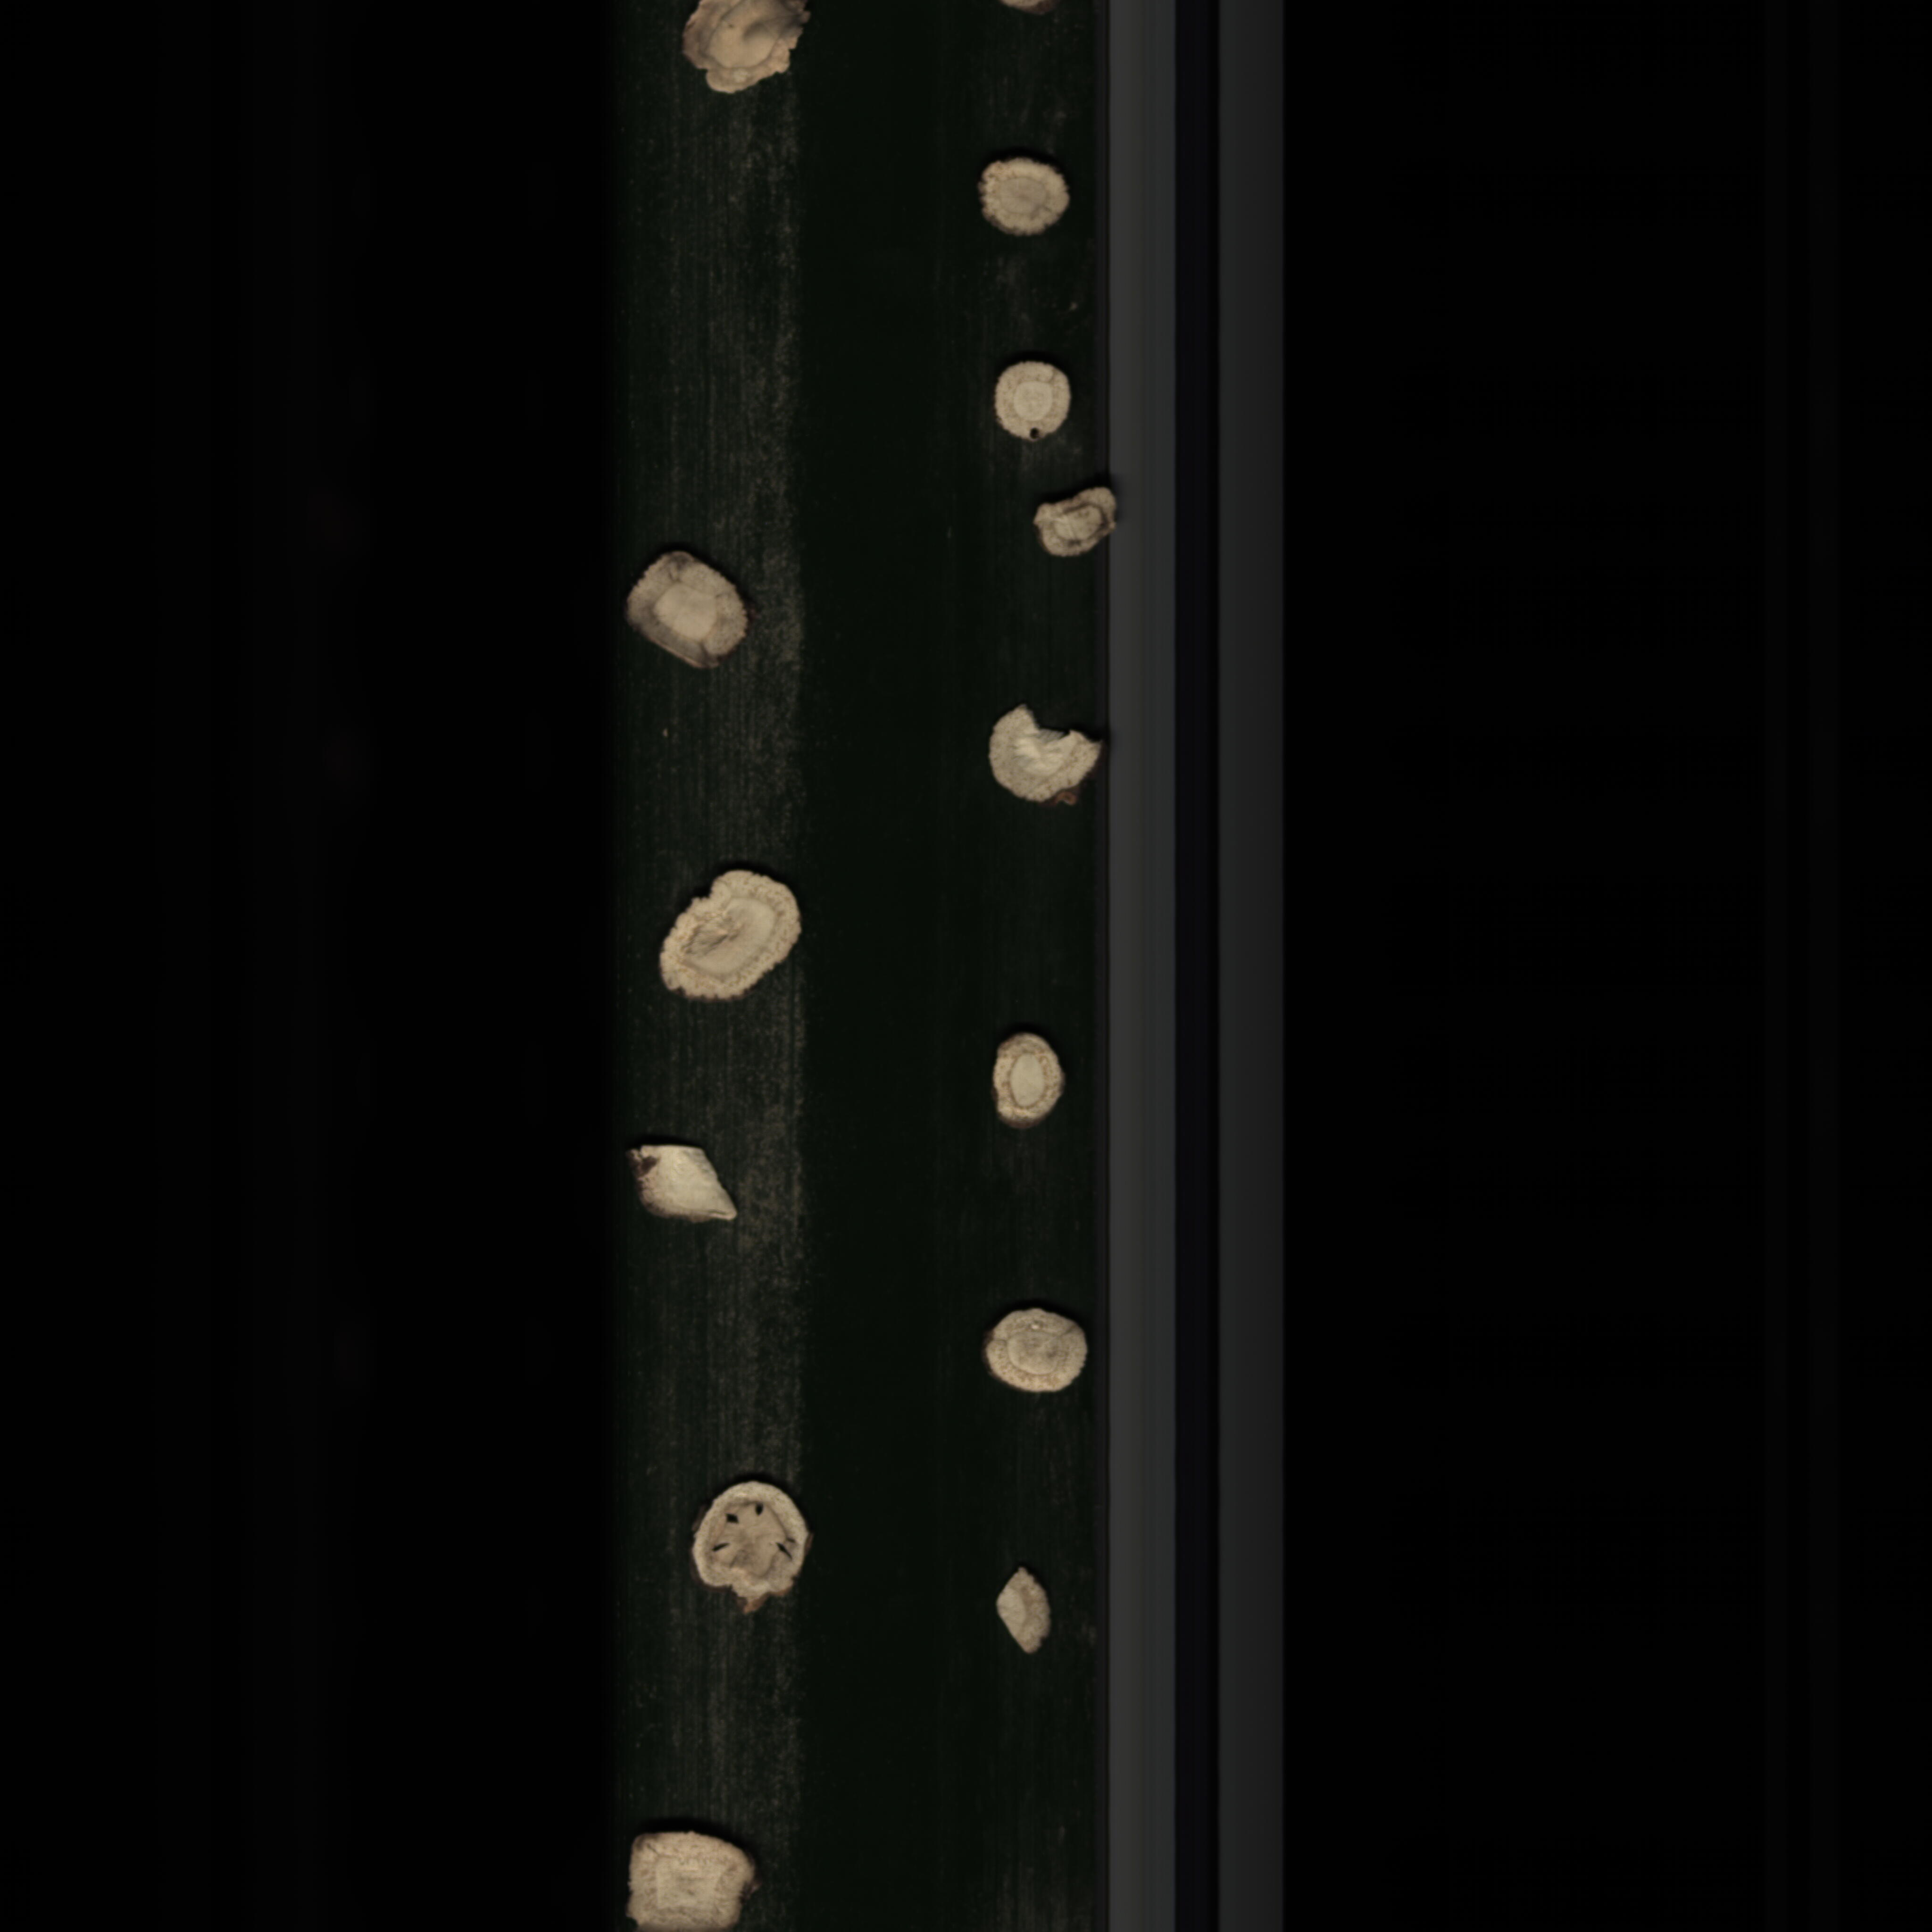bark: (669, 0, 821, 97)
debris: (985, 692, 1111, 821), (617, 1134, 754, 1244), (984, 1560, 1065, 1663)
distortion: (616, 1828, 768, 1927)
hole: (681, 1467, 823, 1622)
moldy: (1017, 481, 1132, 566)
